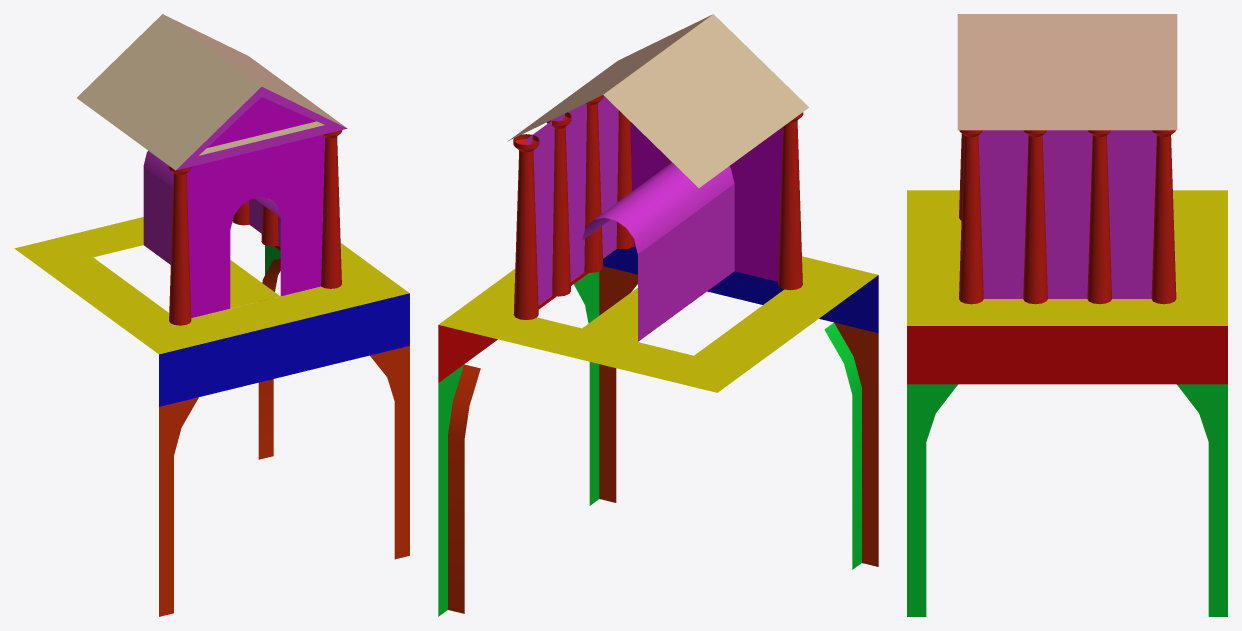
Rendered from Templo2.fbx.
The picture shows the model from 3 angles, left to right: view 1: azimuth 30°, elevation 25°; view 2: azimuth 150°, elevation 25°; view 3: azimuth 270°, elevation 25°; orthographic projection. The views are drawn at different scales.
Parts seen in each view (by area): view 1: Templo2; view 2: Templo2; view 3: Templo2.
Part boxes in pixels (x1,y1,x2,y2): Templo2: [14, 14, 409, 616]; Templo2: [438, 14, 878, 616]; Templo2: [907, 14, 1227, 616].
Bounding box in the file's own units: 500 × 920 × 500.
